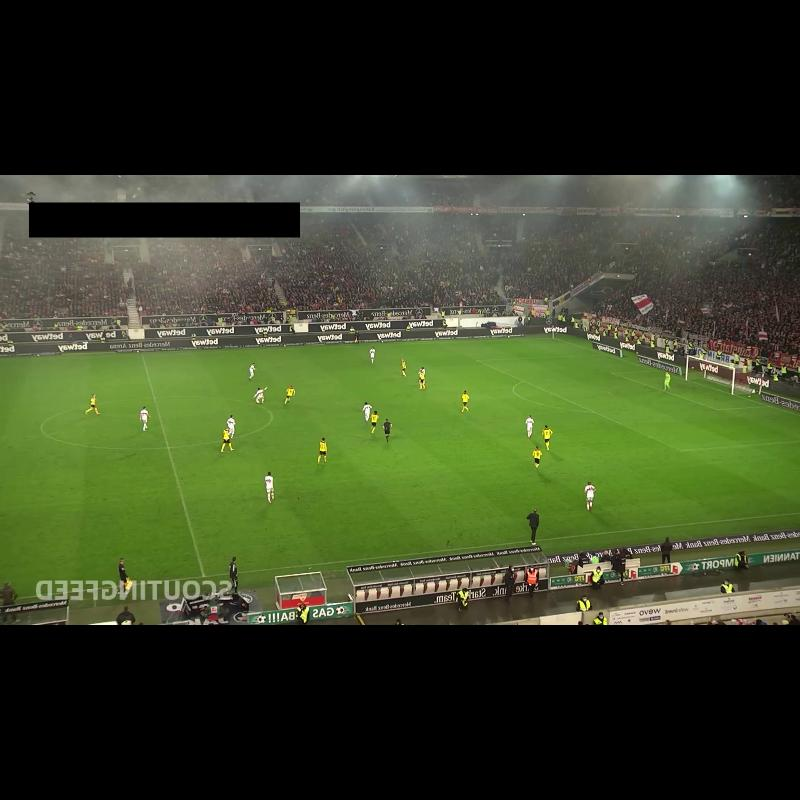cross_recipient_zone: (477, 354, 800, 450)
crossing_player_zone: (569, 440, 800, 526), (374, 338, 601, 364)
pitch: (0, 338, 800, 601)
